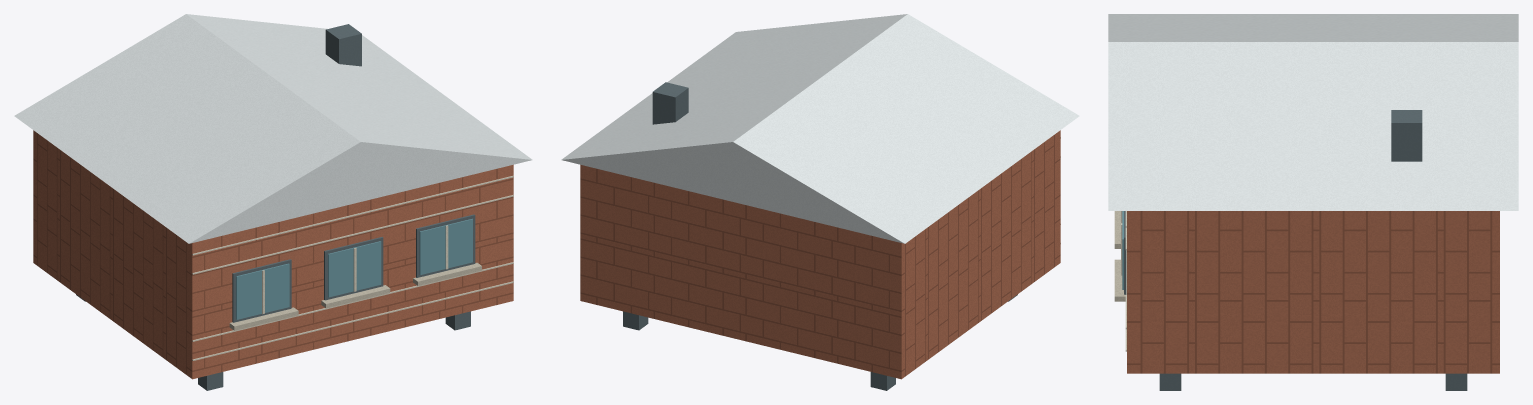
File: polar-cabin.glb
3 renders of one model, left to right at view 1: azimuth 30°, elevation 25°; view 2: azimuth 150°, elevation 25°; view 3: azimuth 270°, elevation 25°, orthographic. The views are drawn at different scales.
Bounding box in the file's own units: 7.5 × 4.85 × 6.6.
6 materials, 5 textured.
